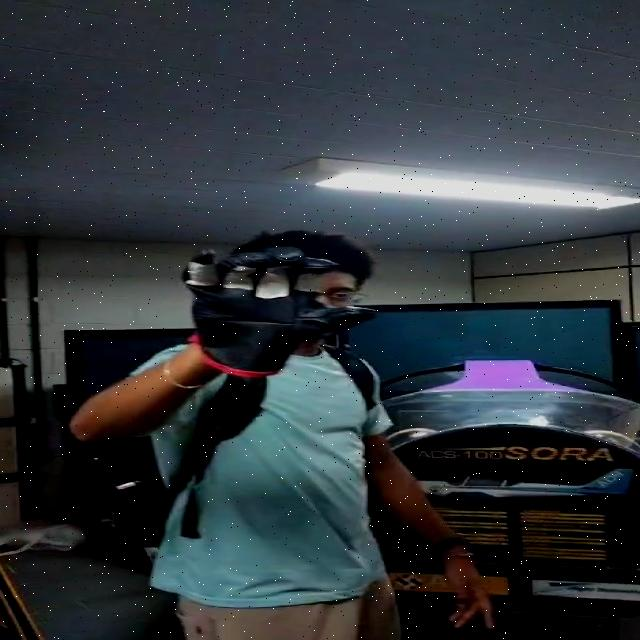Gloves: (172, 245, 369, 372)
